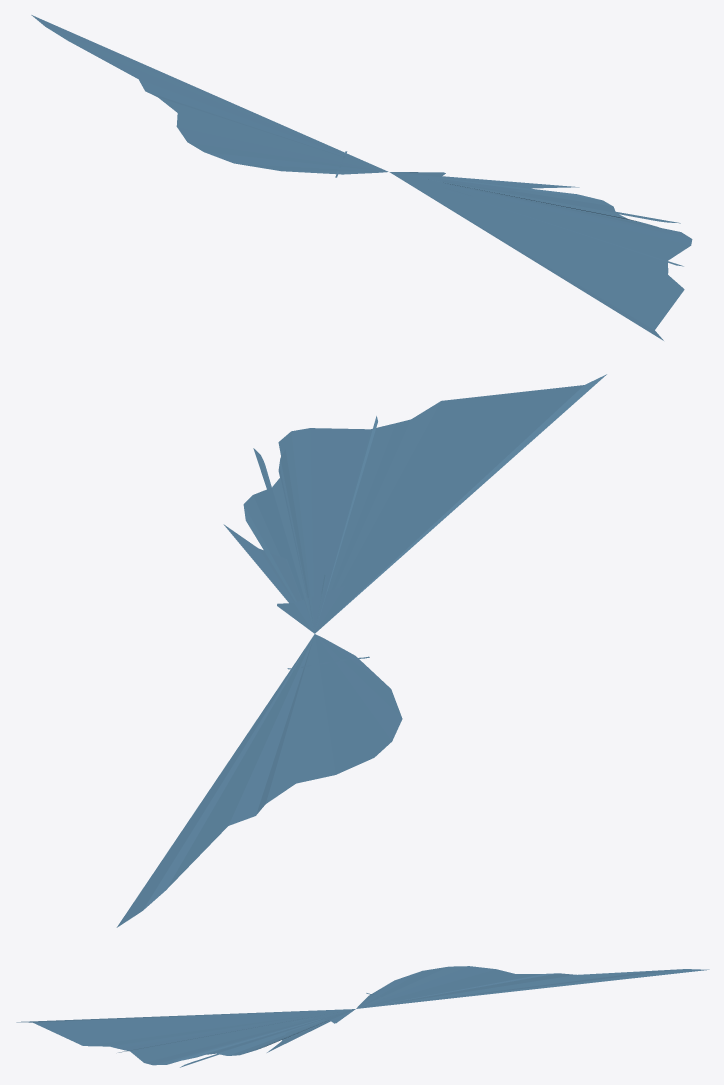
Rendered from c_1628_17825_water.glb.
The picture shows the model from 3 angles, top to bottom: view 1: azimuth 30°, elevation 25°; view 2: azimuth 150°, elevation 25°; view 3: azimuth 270°, elevation 25°; orthographic projection. The views are drawn at different scales.
Visible parts, largest first — view 1: geometry_0; view 2: geometry_0; view 3: geometry_0.
Boxes of the visible parts, <box> form: geometry_0: <box>31,15,692,340</box>; geometry_0: <box>116,374,606,927</box>; geometry_0: <box>16,966,709,1067</box>.
Size of the model in its own units: 485 by 6.21 by 1327.
